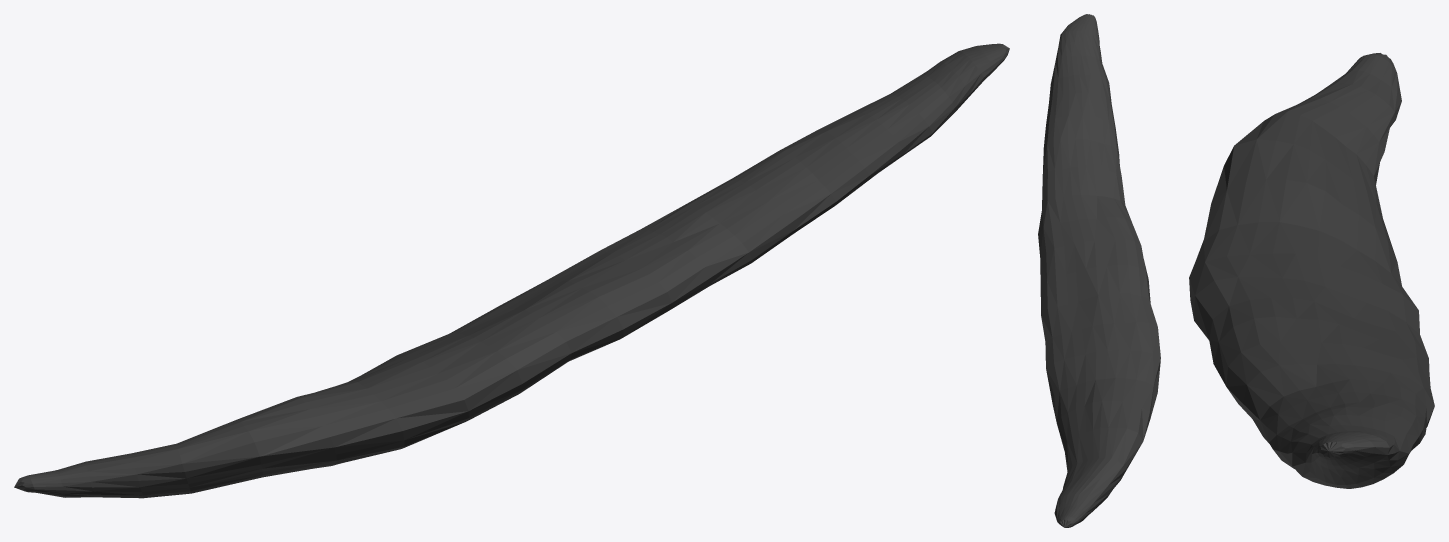
File: TensorFasc_1.glb
The picture shows the model from 3 angles, left to right: view 1: azimuth 90°, elevation 25°; view 2: azimuth 150°, elevation 25°; view 3: azimuth 330°, elevation 25°; orthographic projection. The views are drawn at different scales.
Parts seen in each view (by area): view 1: TensorFasc_1; view 2: TensorFasc_1; view 3: TensorFasc_1.
Boxes of the visible parts, x1,y1,x2,y2 form: TensorFasc_1: (14, 43, 1009, 498); TensorFasc_1: (1038, 14, 1160, 527); TensorFasc_1: (1189, 53, 1434, 488).
Size of the model in its own units: 0.0211 by 0.0101 by 0.0374.
Materials: 1 (1 with a texture image).
